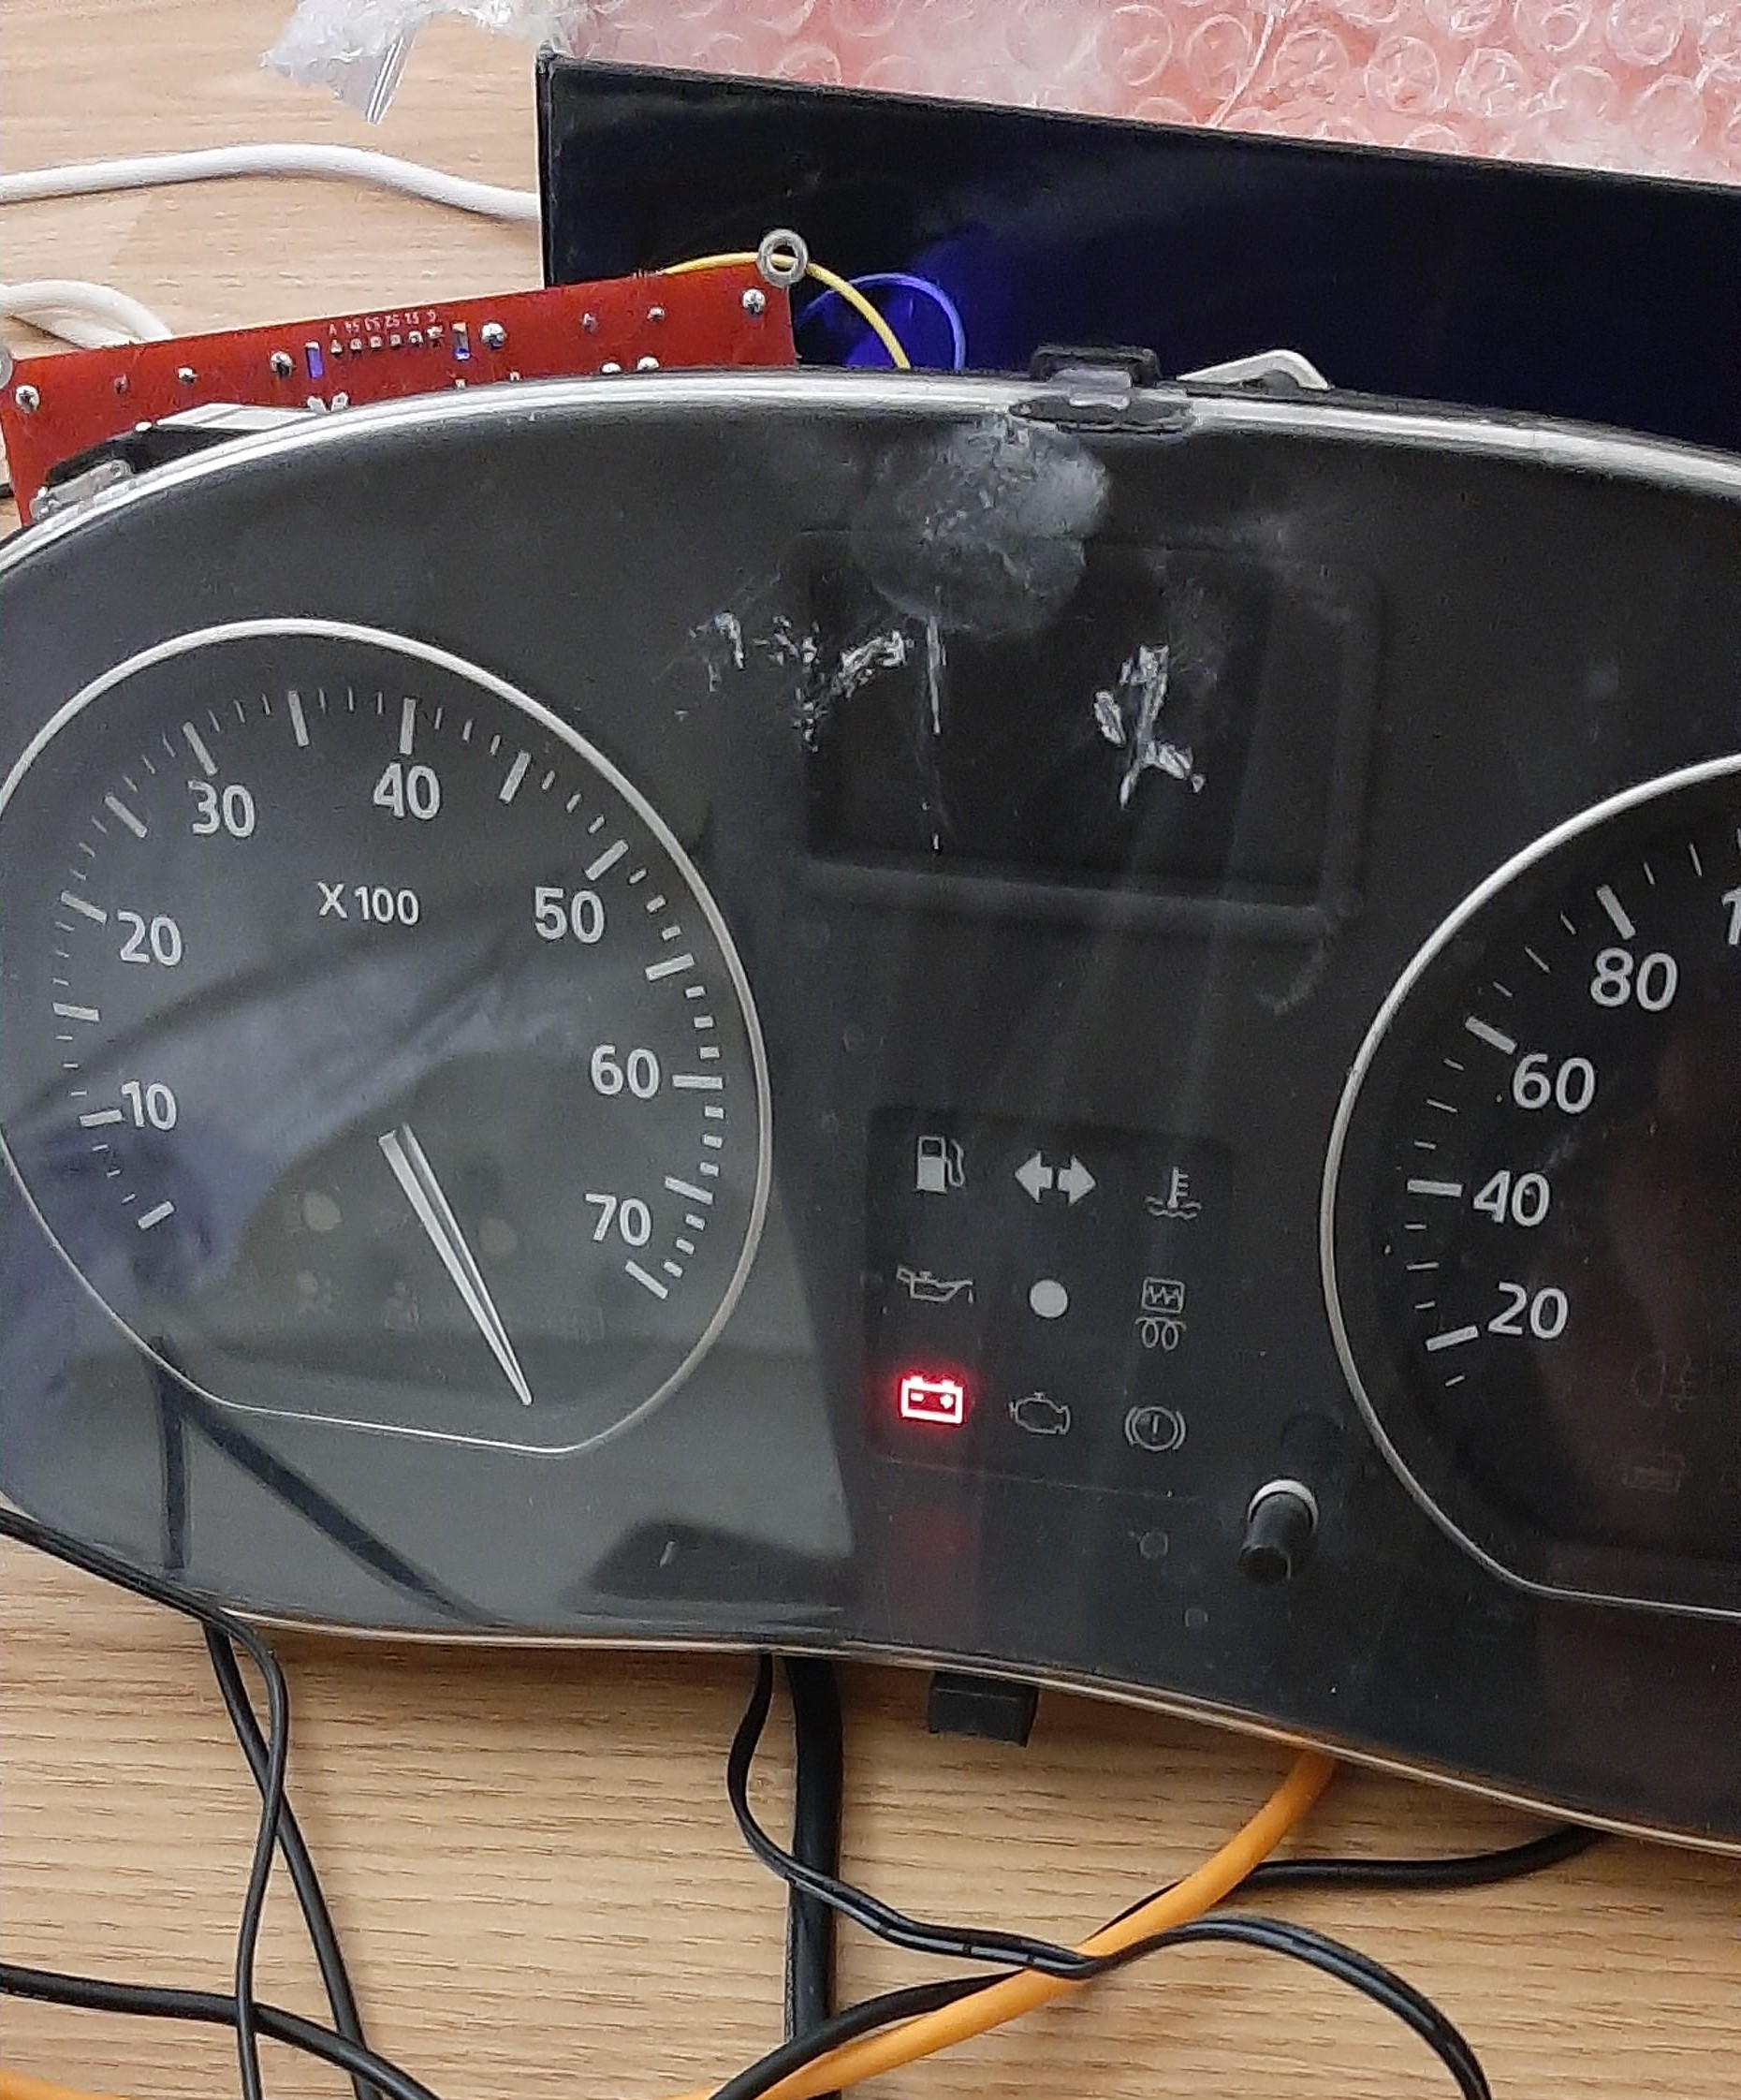accomulator26: (890, 1369, 970, 1428)
